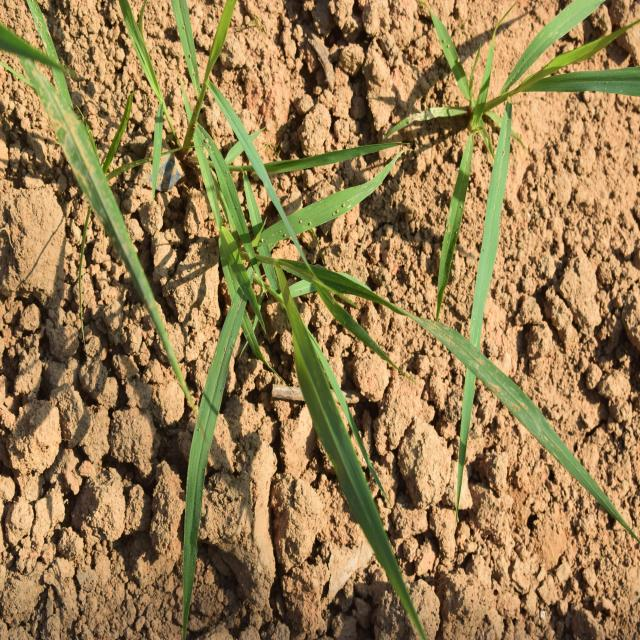green_foxtail: (184, 194, 429, 557), (426, 4, 638, 246), (151, 19, 296, 228)
